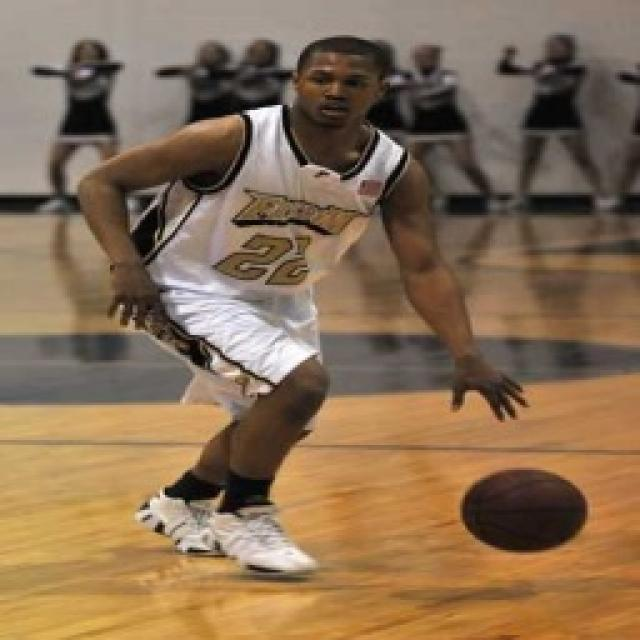rim: (455, 460, 591, 555)
